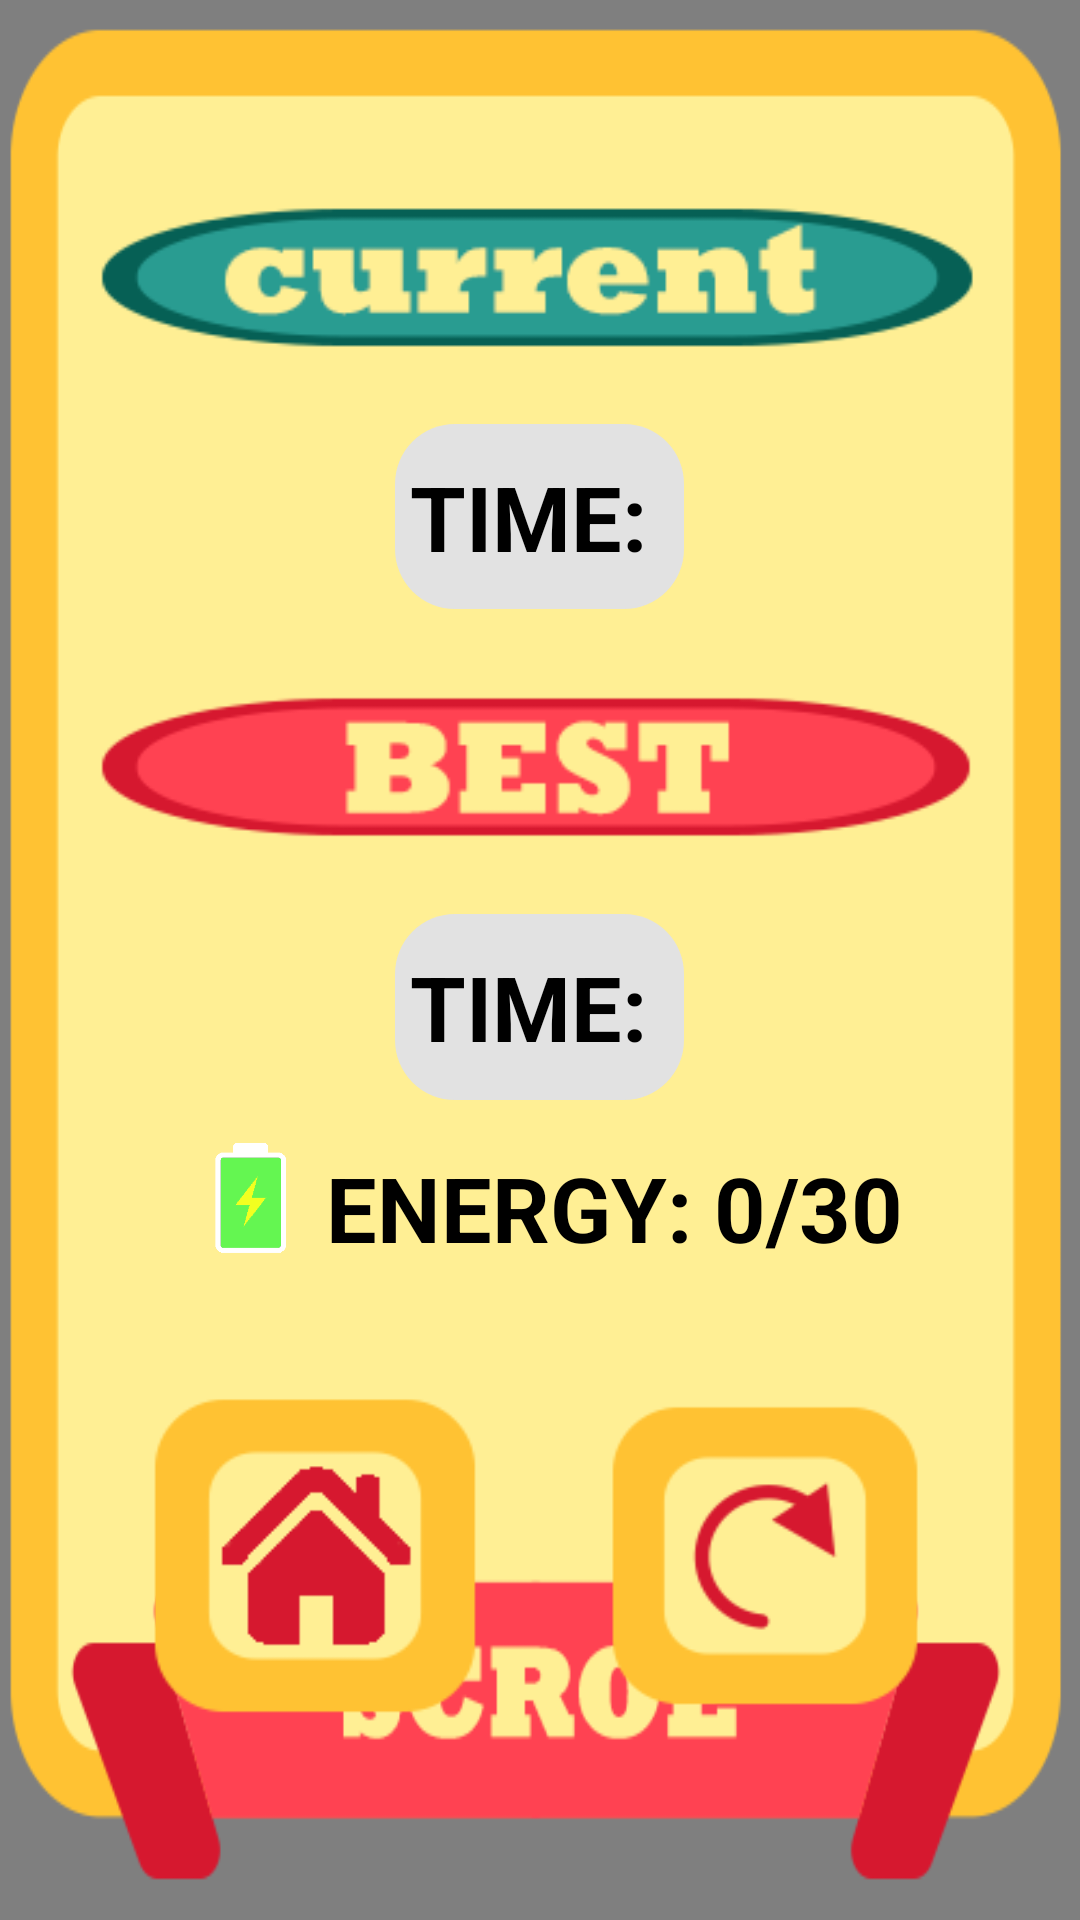

Icons on this 1080px x 1920px Android screen, each with its box as (x1, y1, x2, y2):
thunder: (215, 1143, 286, 1253)
